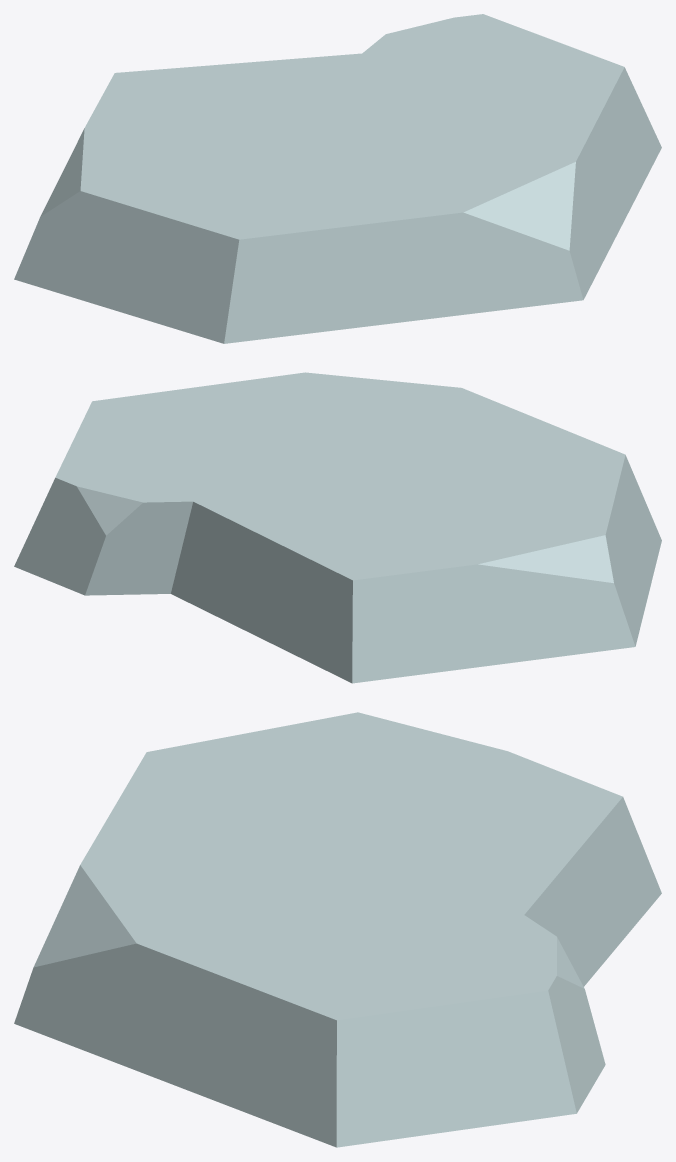
The model's file is stone_smallflatc.glb.
3 renders of one model, top to bottom at view 1: azimuth 30°, elevation 25°; view 2: azimuth 150°, elevation 25°; view 3: azimuth 270°, elevation 25°, orthographic. The views are drawn at different scales.
Visible parts, largest first — view 1: stone_smallFlatC; view 2: stone_smallFlatC; view 3: stone_smallFlatC.
Boxes of the visible parts, x1=… form: stone_smallFlatC: x1=14, y1=14, x2=661, y2=343; stone_smallFlatC: x1=14, y1=372, x2=661, y2=683; stone_smallFlatC: x1=14, y1=712, x2=661, y2=1147.
Bounding box in the file's own units: 0.4704 × 0.0649 × 0.3603.
